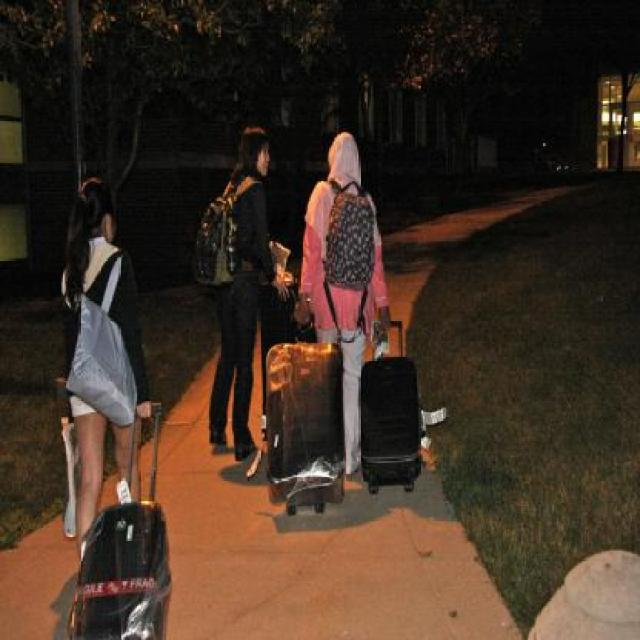obstacle: (55, 166, 151, 551), (295, 124, 393, 478), (198, 119, 280, 486)
